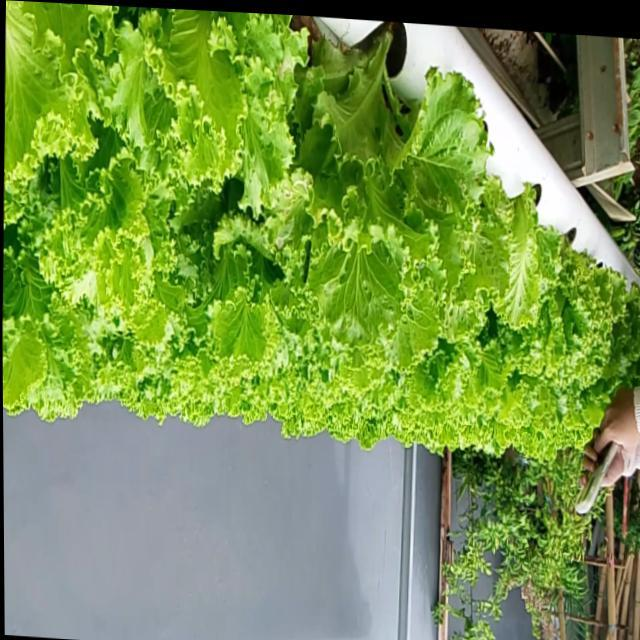Mature: (2, 0, 640, 461), (287, 38, 480, 333), (497, 200, 640, 417)
